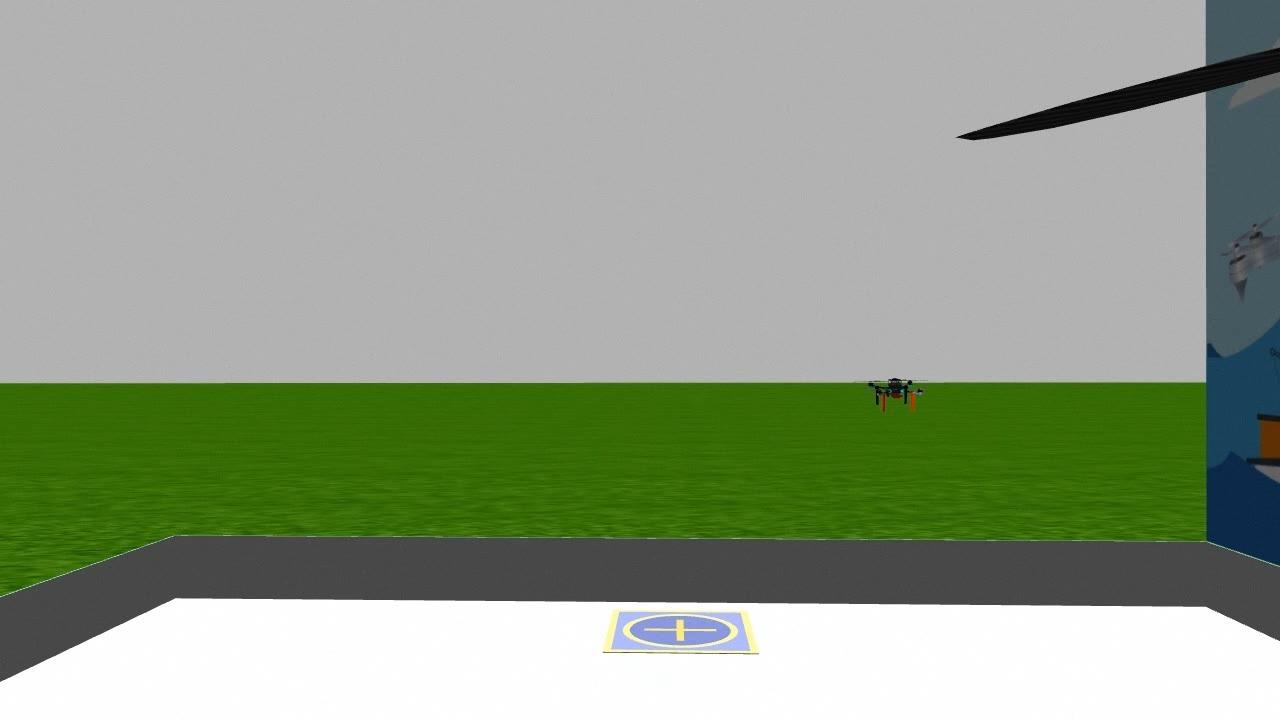UAV: (858, 366, 932, 415)
